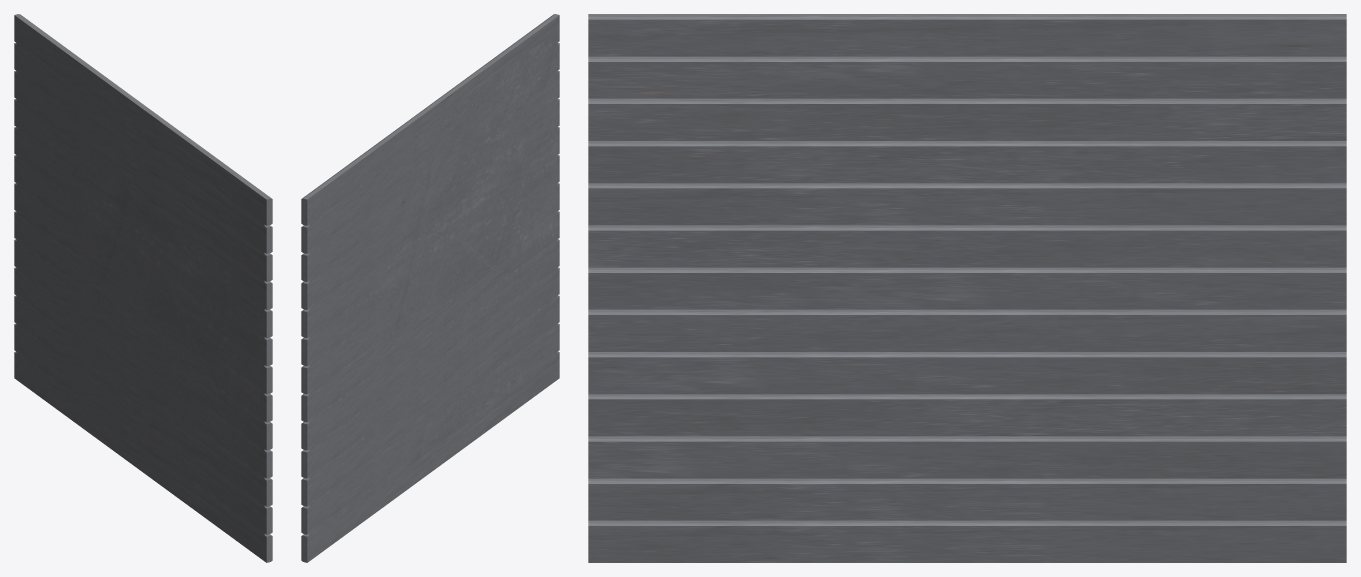
Rendered from gate.fbx.
The picture shows the model from 3 angles, left to right: view 1: azimuth 30°, elevation 25°; view 2: azimuth 150°, elevation 25°; view 3: azimuth 270°, elevation 25°; orthographic projection. The views are drawn at different scales.
Visible parts, largest first — view 1: Cube; view 2: Cube; view 3: Cube.
Boxes of the visible parts, <box> form: Cube: <box>14,14,272,562</box>; Cube: <box>301,14,559,562</box>; Cube: <box>588,14,1346,562</box>.
Bounding box in the file's own units: 7.22 × 415 × 523.
